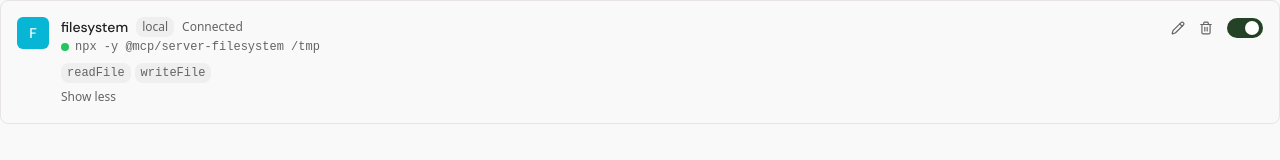
McpServerCard › can collapse auto-expanded tools
This screenshot has width=1280, height=160.
Click the button "Show less": (88, 97) [61,89,116,105]
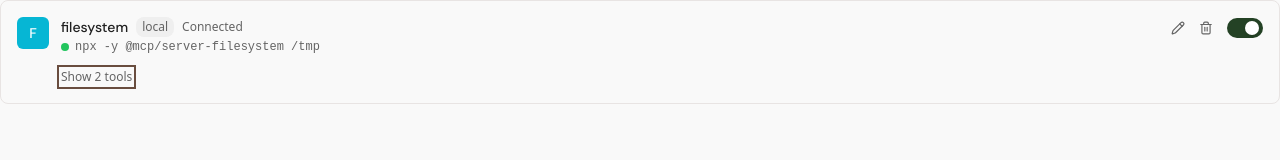
Expected: the text "readFile" is gone
Expected: the button "Show 2 tools" is shown, [61,69,132,85]
